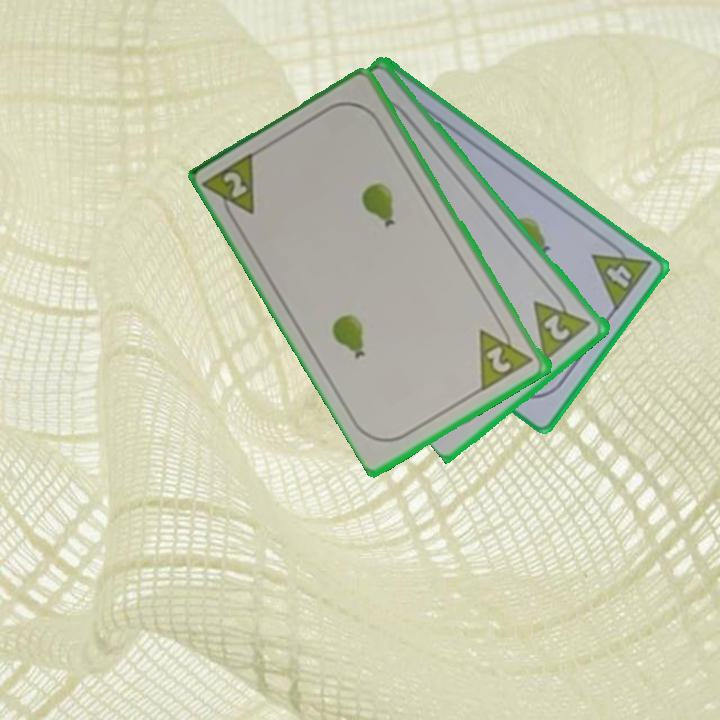2p: (529, 284, 595, 363), (202, 148, 261, 229), (475, 316, 537, 393)
4p: (588, 233, 655, 314)
